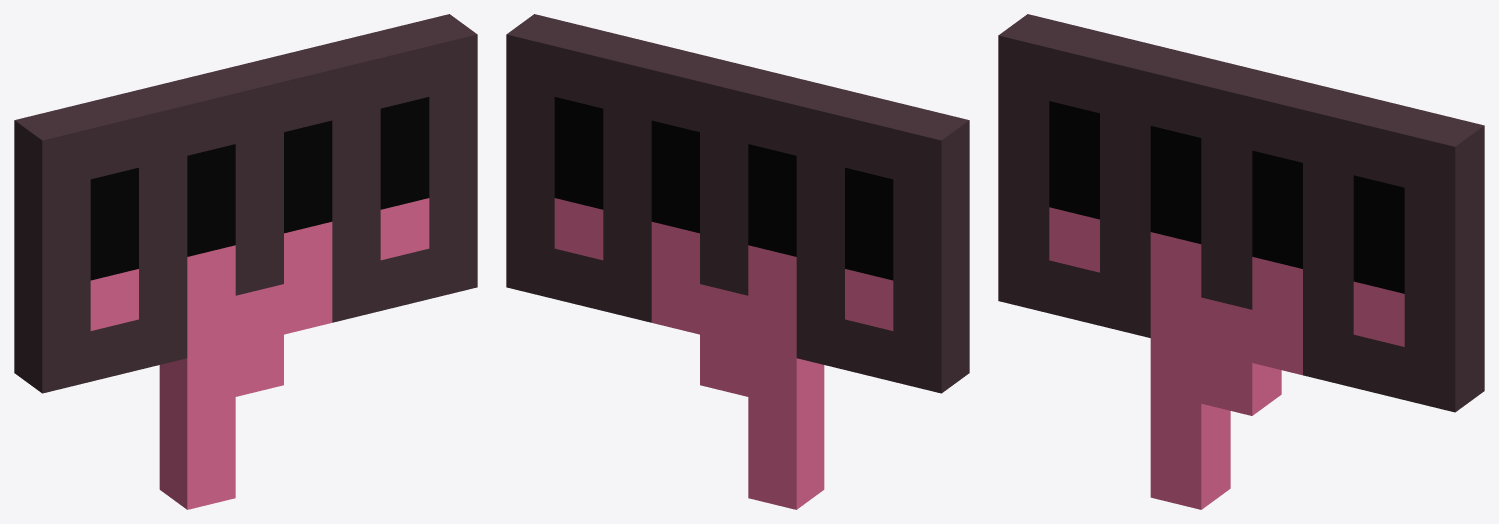
The model's file is wall_grate_b_leaking_juice.obj.
3 renders of one model, left to right at view 1: azimuth 30°, elevation 25°; view 2: azimuth 150°, elevation 25°; view 3: azimuth 330°, elevation 25°, orthographic. The views are drawn at different scales.
Size of the model in its own units: 0.9 by 0.8 by 0.1.
1 material, 1 textured.
